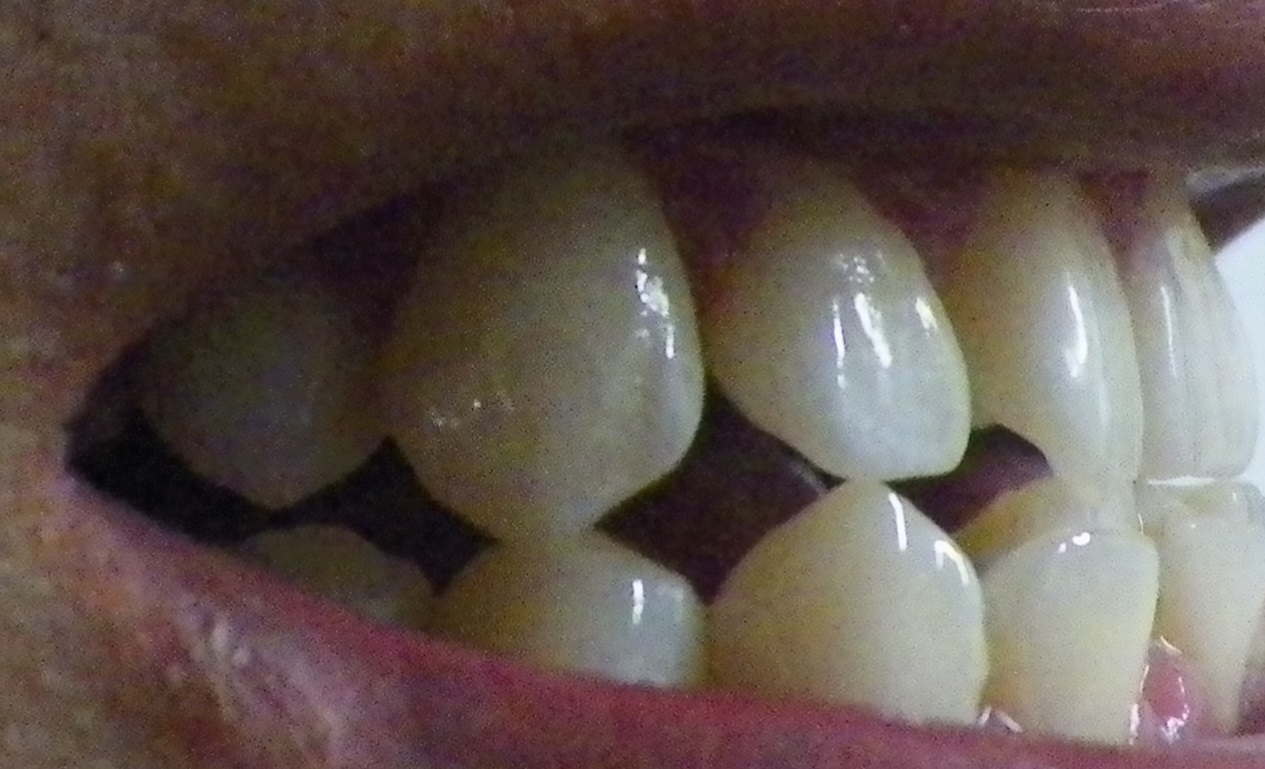boca: (168, 149, 1260, 733)
